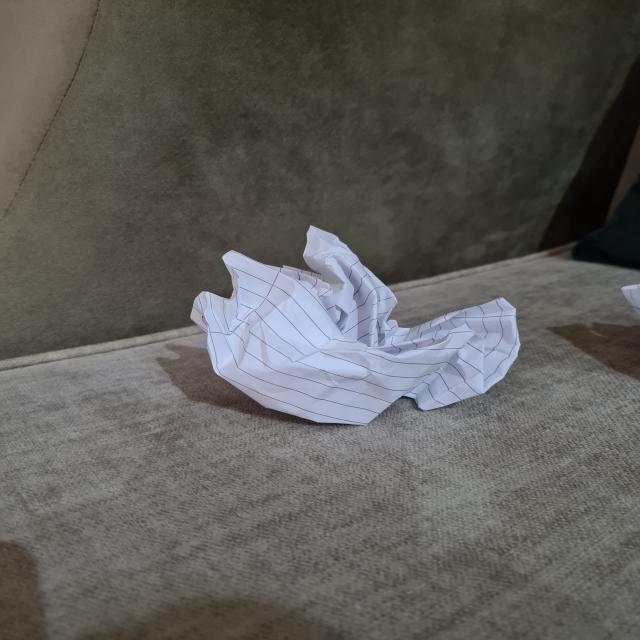Paper: (195, 221, 521, 424)
